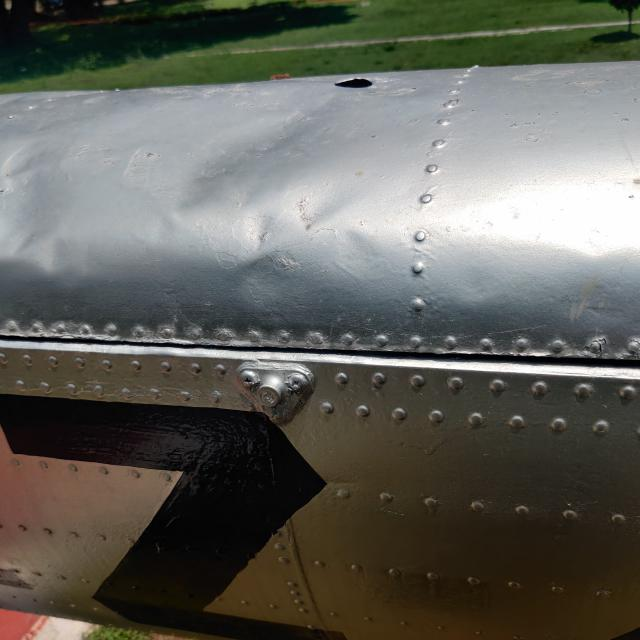dent: (148, 95, 331, 232), (1, 209, 91, 297), (232, 245, 298, 315)
